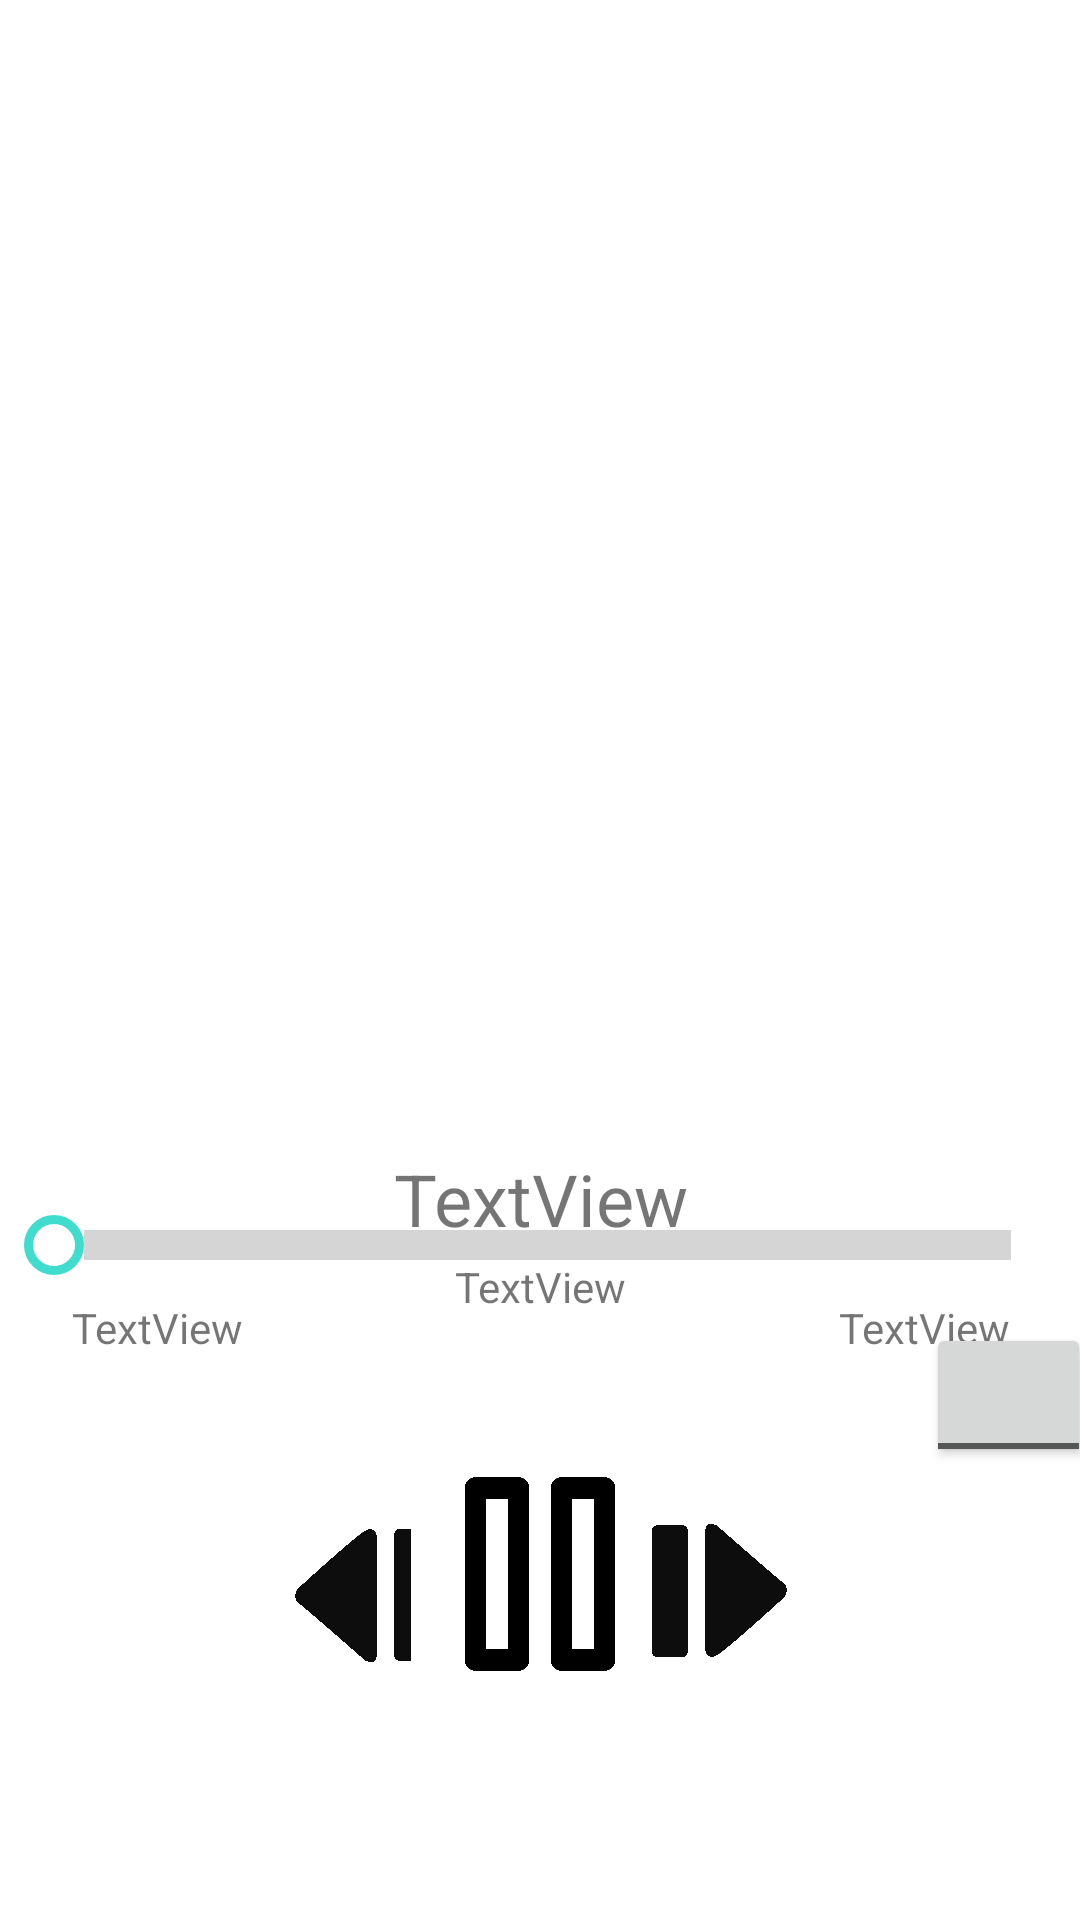

Named icons in this screenshot (1080x1920) and their bounding boxes, (x1, y1, x2, y2):
pause: (465, 1477, 615, 1671)
